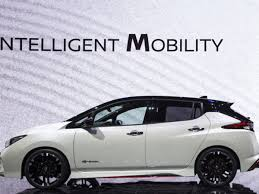Nissan: (3, 99, 252, 184)
